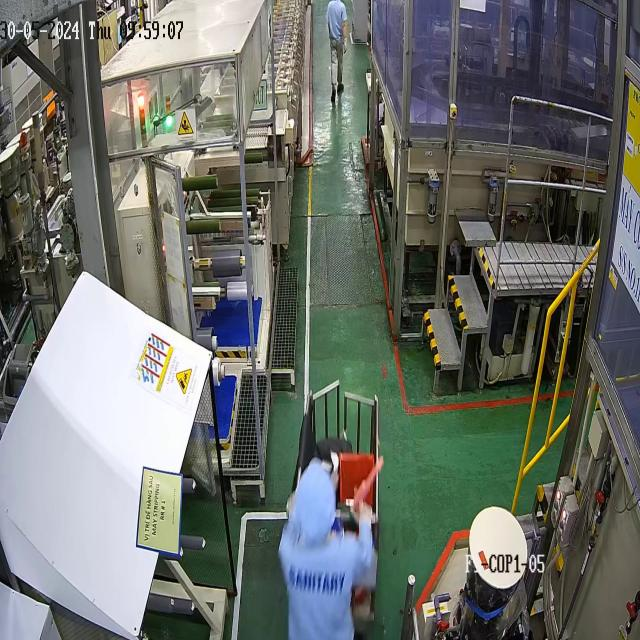Person: (278, 439, 376, 639), (326, 0, 347, 102)
